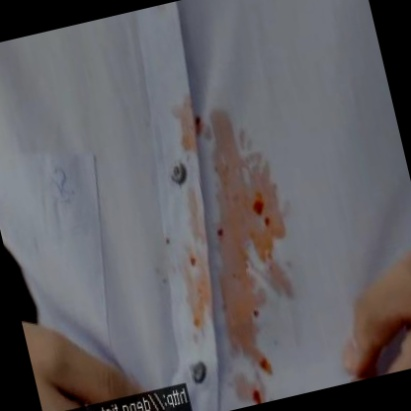kimchi: (120, 82, 319, 411), (240, 185, 271, 236), (180, 109, 209, 143), (182, 250, 208, 276), (246, 384, 269, 406), (214, 221, 232, 243), (161, 227, 175, 243), (249, 301, 263, 316), (261, 354, 272, 366)
